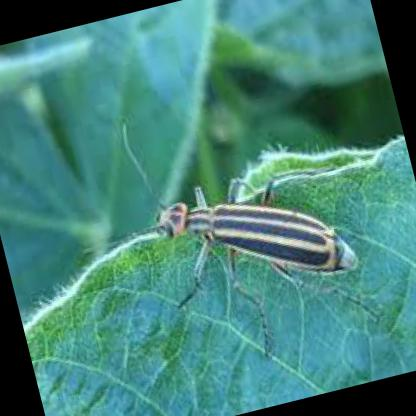blister beetle: (83, 127, 361, 306)
